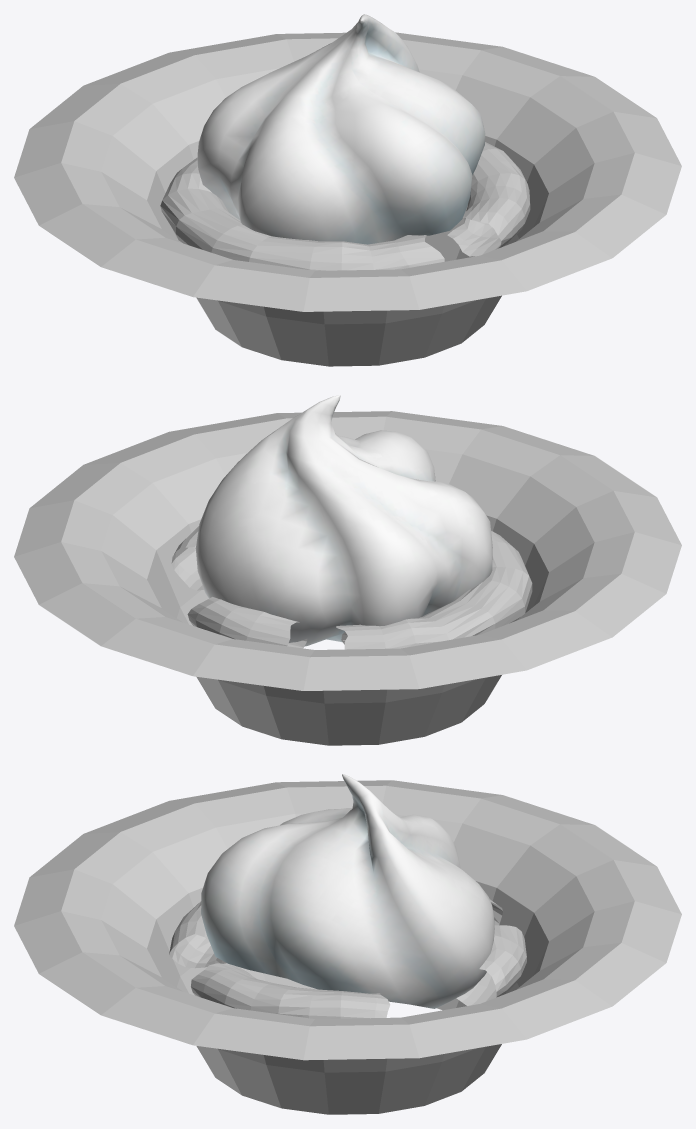
The model's file is pref_fx_score_commonblast_02_055701_lv1.fbx.
3 views of the same model, one above another, from view 1: azimuth 30°, elevation 25°; view 2: azimuth 150°, elevation 25°; view 3: azimuth 270°, elevation 25° (orthographic).
Parts seen in each view (by area): view 1: tip02_ani, naiyou_02, sm_fx_naiyou_score_01; view 2: tip02_ani, naiyou_02, sm_fx_naiyou_score_01; view 3: tip02_ani, naiyou_02, sm_fx_naiyou_score_01.
Boxes of the visible parts, x1,y1,x2,y2 form: tip02_ani: (14,32,681,366); naiyou_02: (197,14,485,244); sm_fx_naiyou_score_01: (160,142,530,270); tip02_ani: (14,411,681,745); naiyou_02: (195,395,492,646); sm_fx_naiyou_score_01: (171,526,532,649); tip02_ani: (14,780,681,1114); naiyou_02: (201,774,494,1008); sm_fx_naiyou_score_01: (169,899,526,1018).
Size of the model in its own units: 4.24 by 2.02 by 4.27.
Materials: 3 (1 with a texture image).
